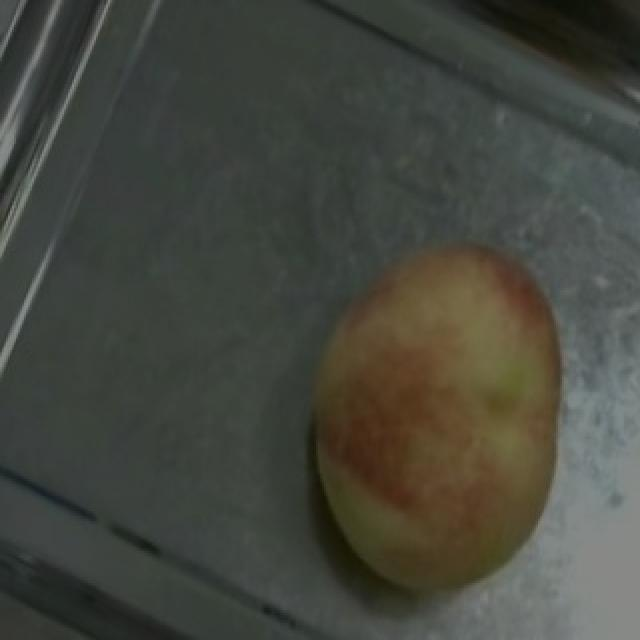Fruit: (266, 193, 618, 632)
